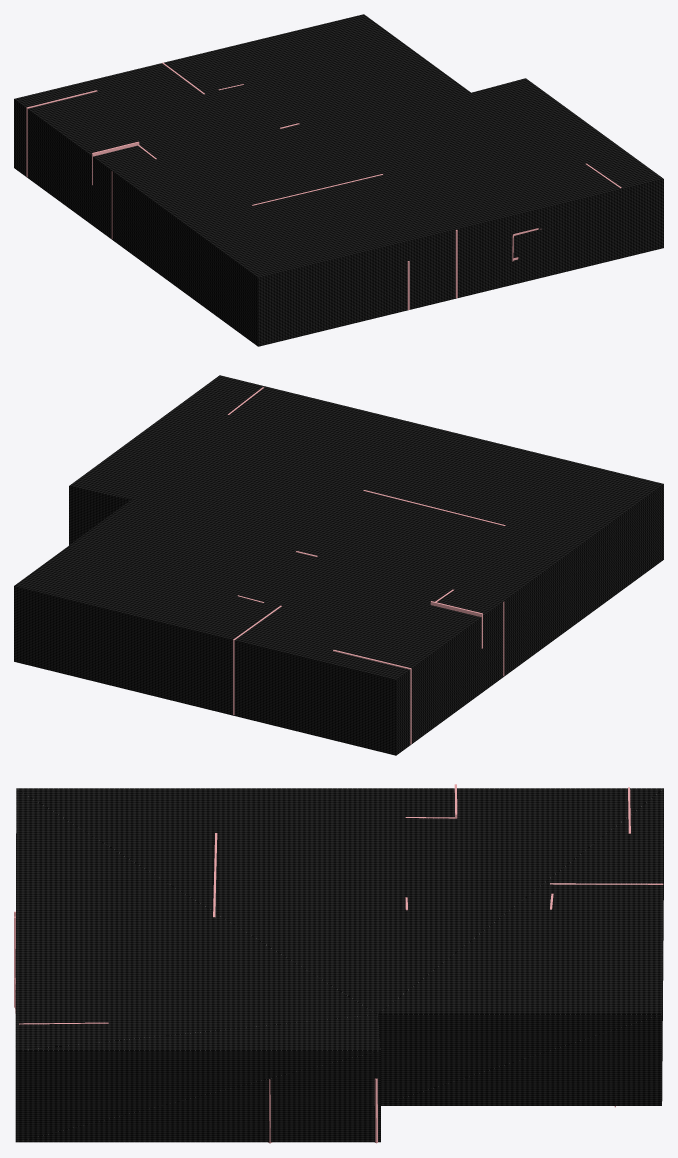
The model's file is teststage.fbx.
3 views of the same model, one above another, from view 1: azimuth 30°, elevation 25°; view 2: azimuth 150°, elevation 25°; view 3: azimuth 270°, elevation 25° (orthographic). The views are drawn at different scales.
Parts seen in each view (by area): view 1: New Game Object (2); view 2: New Game Object (2); view 3: New Game Object (2).
Part boxes in pixels (x1,y1,x2,y2): New Game Object (2): (14,14,663,346); New Game Object (2): (14,375,663,755); New Game Object (2): (15,788,663,1142).
Size of the model in its own units: 6266 by 1077 by 6543.
2 materials, 1 textured.
